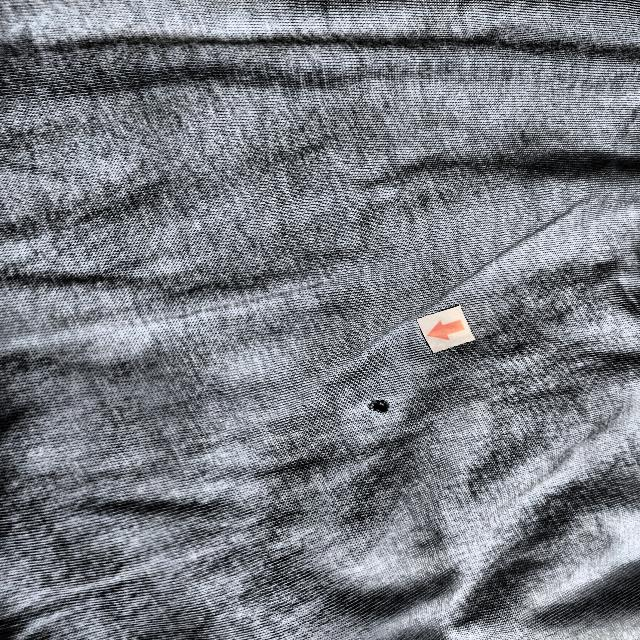Hole: (362, 394, 401, 418)
